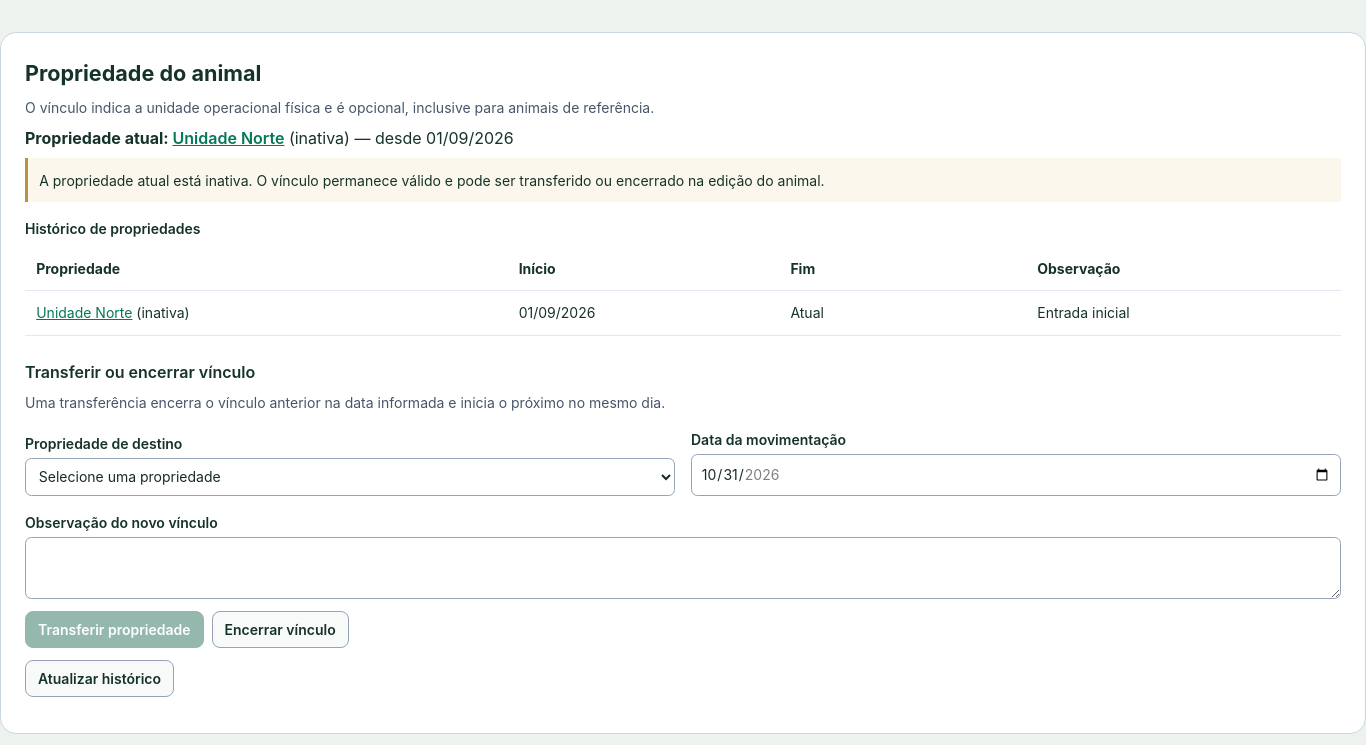
Test: AnimalPropertiesPanel › transfere com o vínculo esperado e mostra os dois períodos preservados
Select "Unidade Sul" in the dropdown labelled "Propriedade de destino": (350, 477) [25,458,675,496]
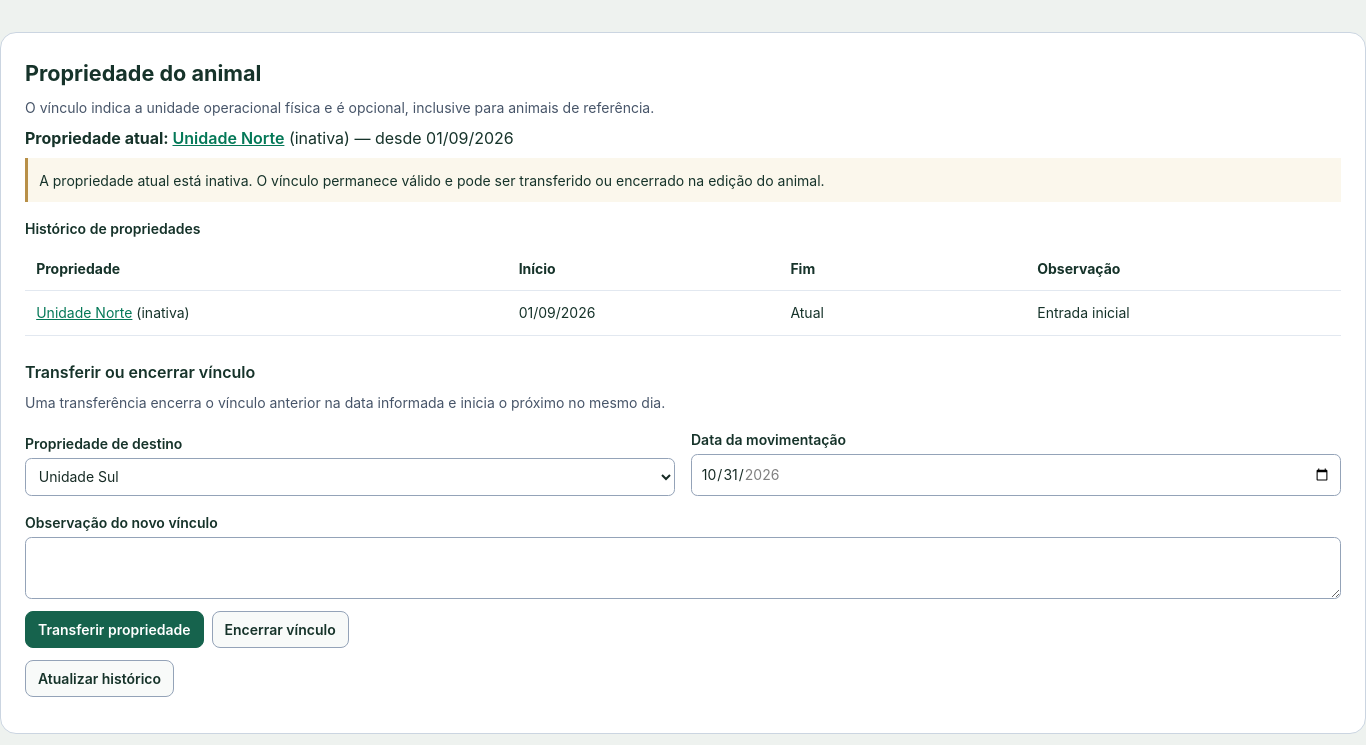
In the date field labelled "Data da movimentação": (1016, 475) [691,454,1341,496], type "2026-09-02"
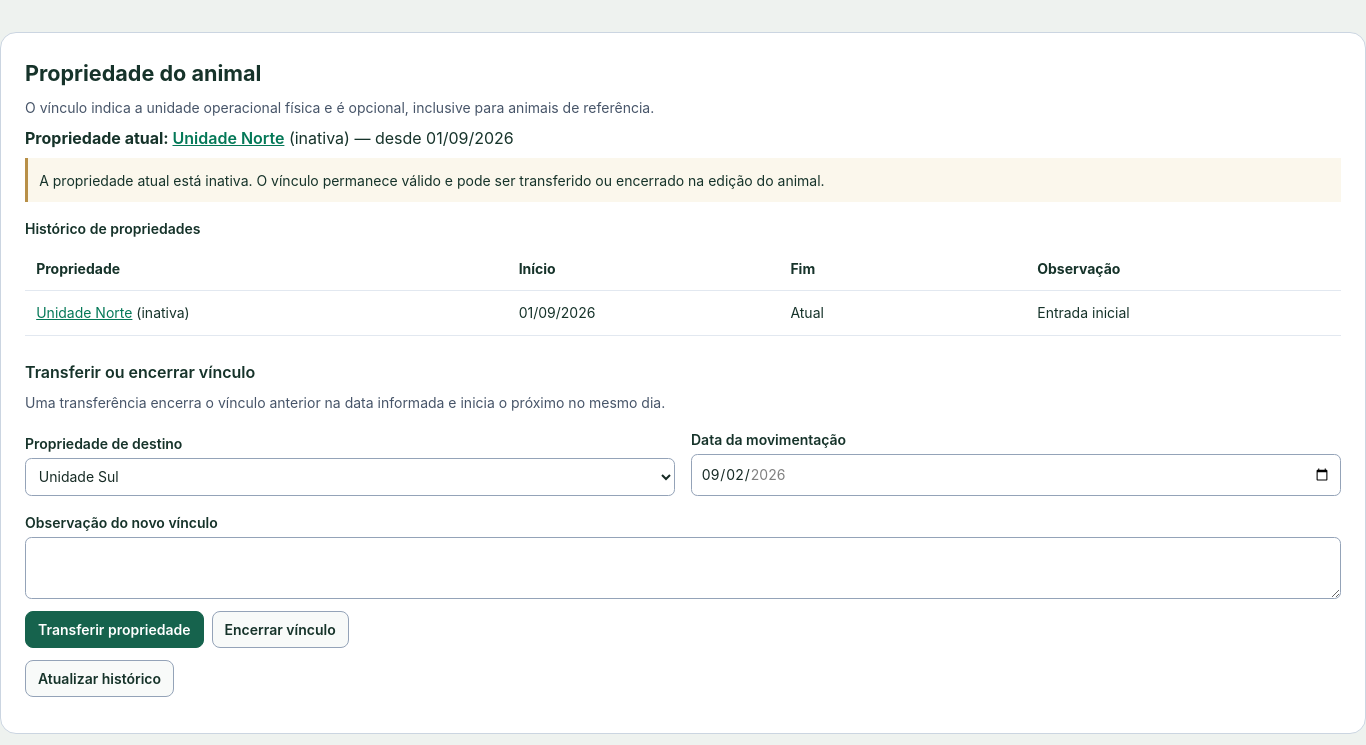
In the text box labelled "Observação do novo vínculo": (683, 568) [25,537,1341,599], type " Transferência "
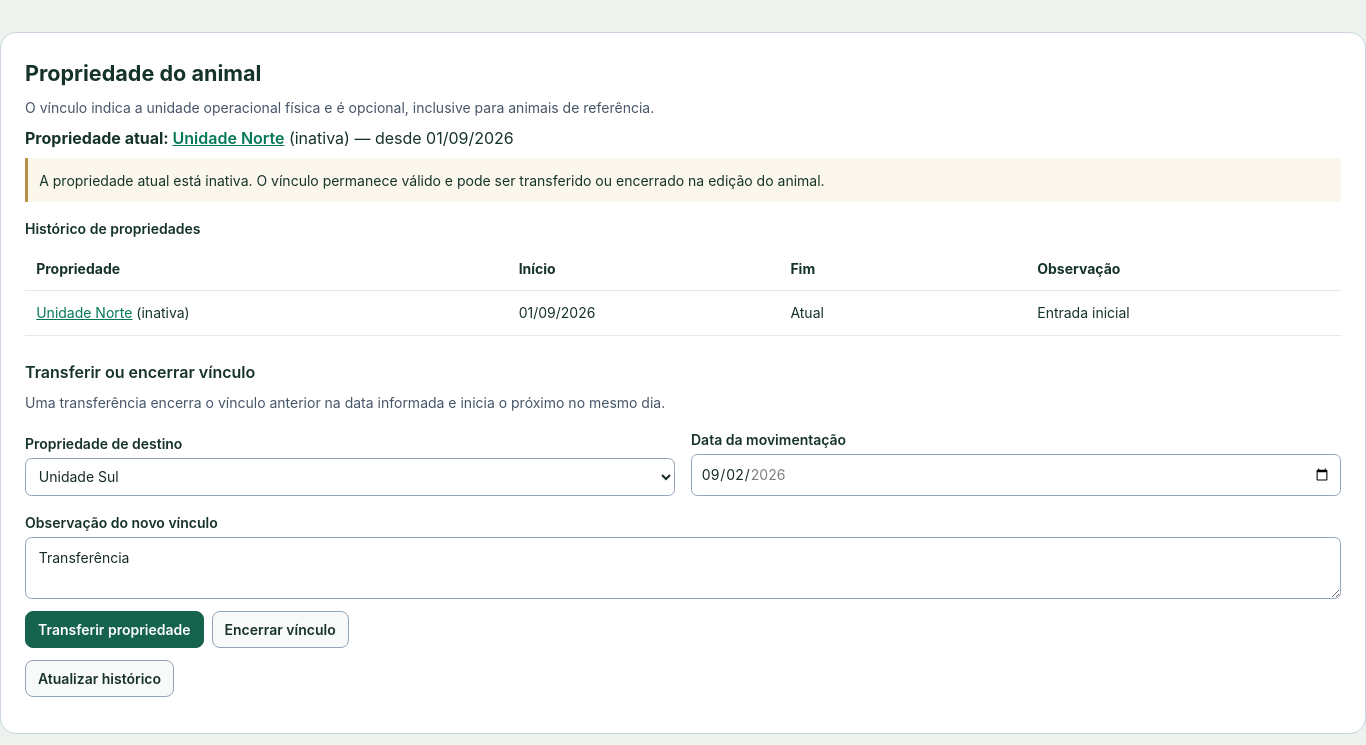
Click the button "Transferir propriedade": (114, 629) [25,611,204,648]
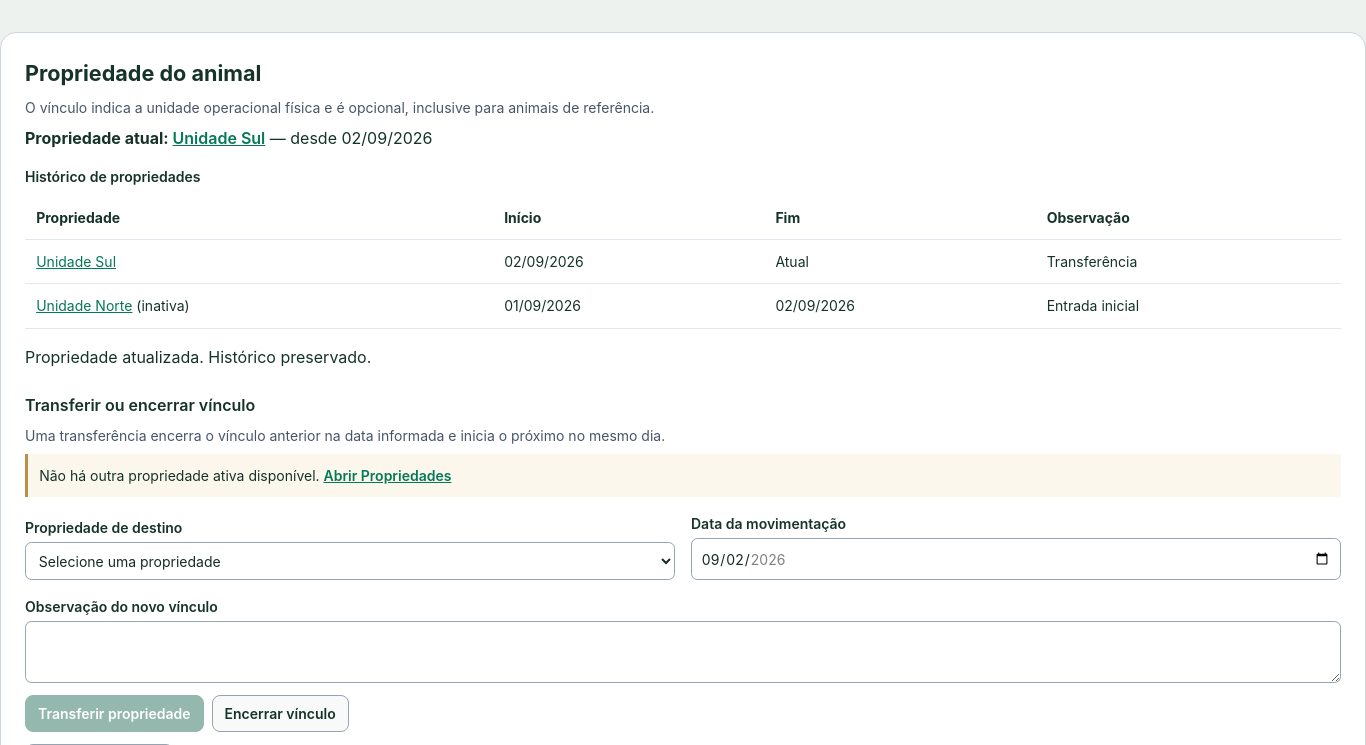
Expected: the text "Propriedade atualizada. Histórico preservado." is shown, [25,346,371,366]
Expected: the number of rows is 3, [25,195,1341,239]; [25,239,1341,284]; [25,284,1341,328]
